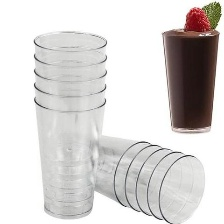glass: (26, 20, 127, 220), (68, 131, 214, 224), (154, 18, 224, 139)
